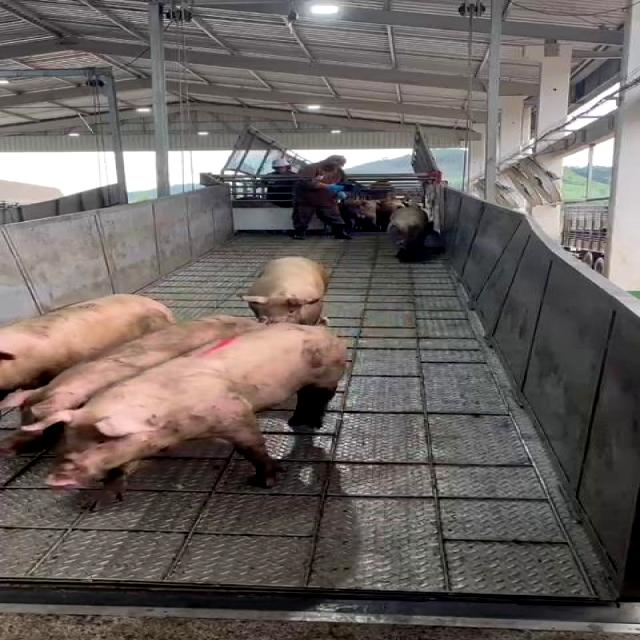pig: (13, 324, 345, 488), (5, 315, 263, 437), (0, 287, 177, 385), (252, 255, 335, 329), (385, 201, 437, 263)
